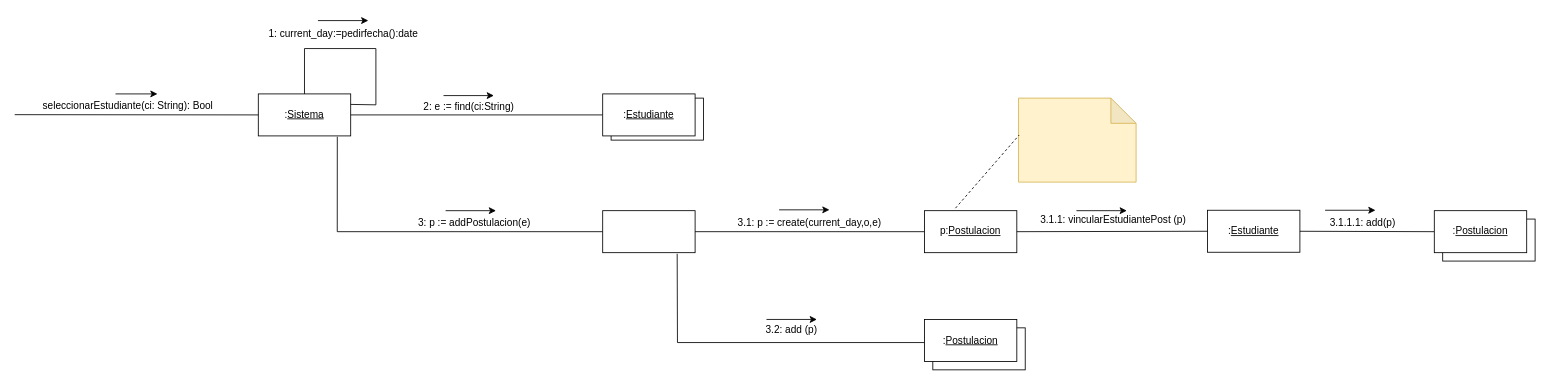
Image size: 1550x385. Some labels were removed from this diagram. Here are the shapes that lost their labels. From the top down, the centre of each, then its label:
At point (1077, 139): "Postulacion queda vinculado con Oferta Laboral o y Estudiante e".
At point (648, 231): "o :Oferta Laboral".
